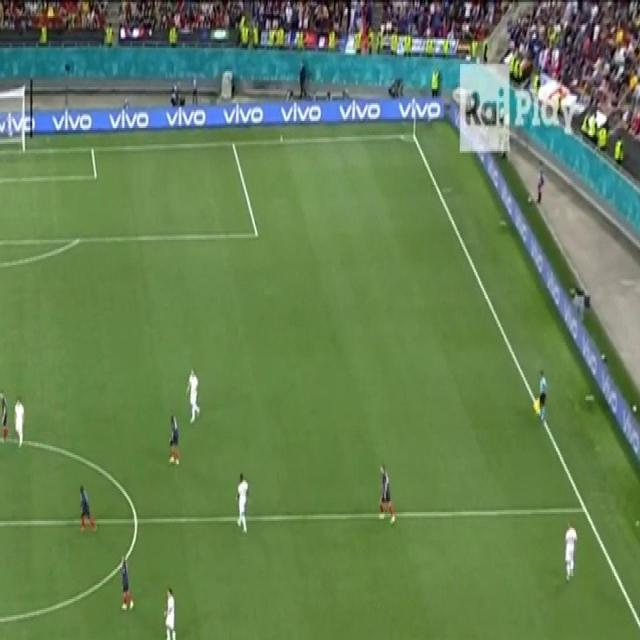Keeper: (532, 367, 548, 423)
another-player: (377, 462, 396, 526), (78, 484, 98, 534), (119, 557, 135, 613), (168, 408, 180, 468), (1, 388, 10, 445)
ball: (526, 194, 532, 205), (632, 402, 638, 413)
player-white: (235, 471, 251, 537), (185, 368, 201, 427), (564, 519, 579, 581), (162, 585, 177, 640), (12, 394, 26, 450)
